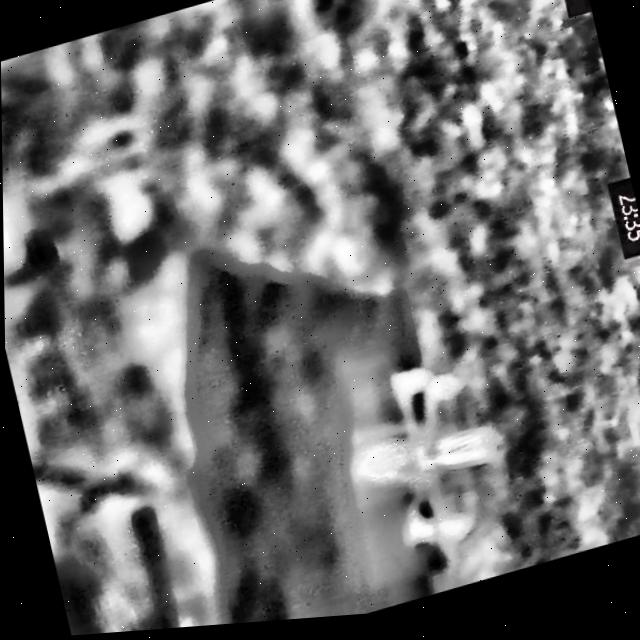drone: (323, 353, 521, 576)
